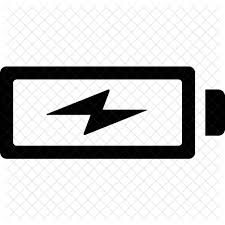charging sign: (1, 51, 225, 167)
